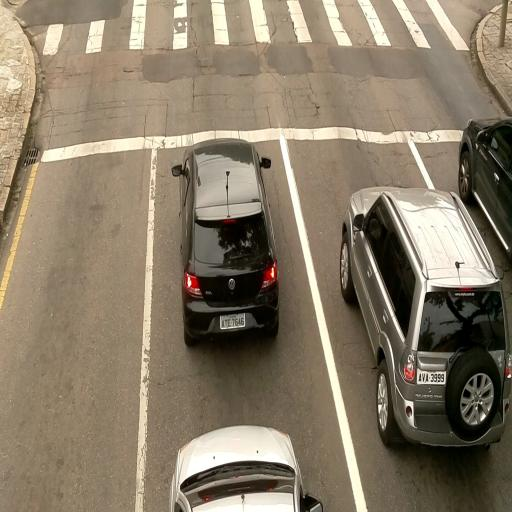car: (339, 185, 507, 445), (173, 137, 282, 346), (167, 425, 321, 511), (459, 116, 512, 274)
